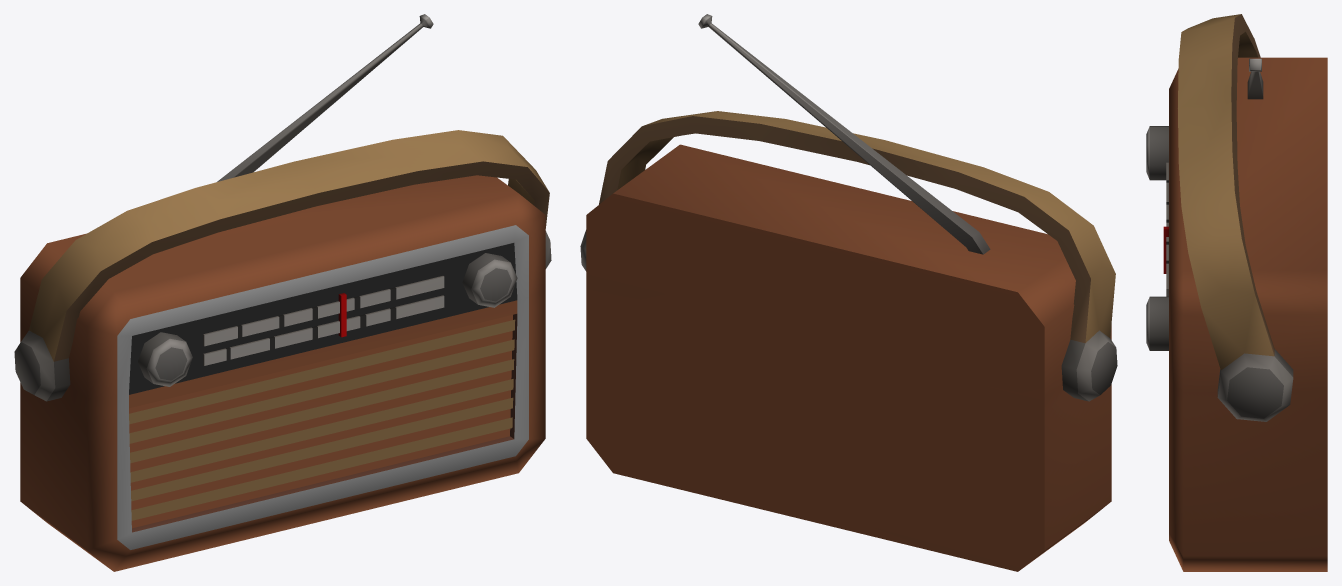
The picture shows the model from 3 angles, left to right: view 1: azimuth 30°, elevation 25°; view 2: azimuth 150°, elevation 25°; view 3: azimuth 270°, elevation 25°; orthographic projection. The views are drawn at different scales.
Parts seen in each view (by area): view 1: RadioReceiver_Slide; view 2: RadioReceiver_Slide; view 3: RadioReceiver_Slide.
Boxes of the visible parts, bbox=[...] form: RadioReceiver_Slide: bbox=[14, 14, 551, 571]; RadioReceiver_Slide: bbox=[580, 14, 1117, 571]; RadioReceiver_Slide: bbox=[1146, 14, 1327, 571].
Bounding box in the file's own units: 0.5 × 0.4183 × 0.1429.
